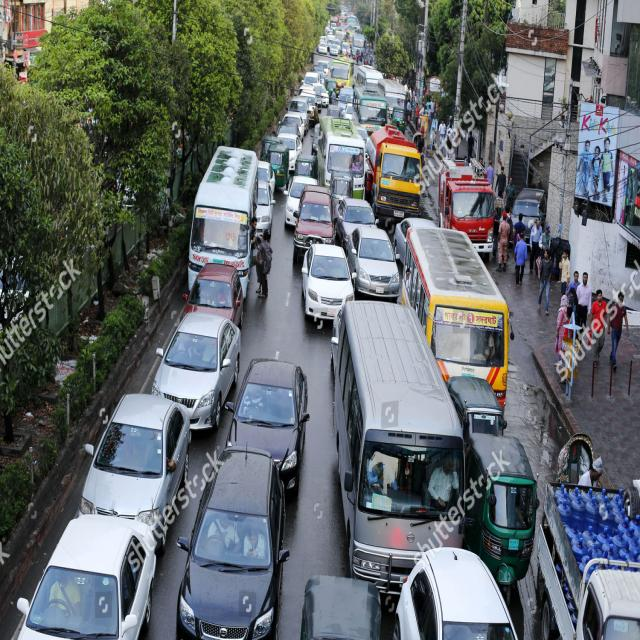black: (182, 444, 282, 640), (227, 353, 302, 494)
maroon: (181, 260, 245, 342), (295, 184, 337, 262)
silver: (326, 288, 474, 594), (78, 390, 188, 542), (148, 309, 242, 443), (345, 225, 401, 302), (335, 198, 379, 245)
white: (12, 515, 151, 640), (303, 243, 352, 326)
